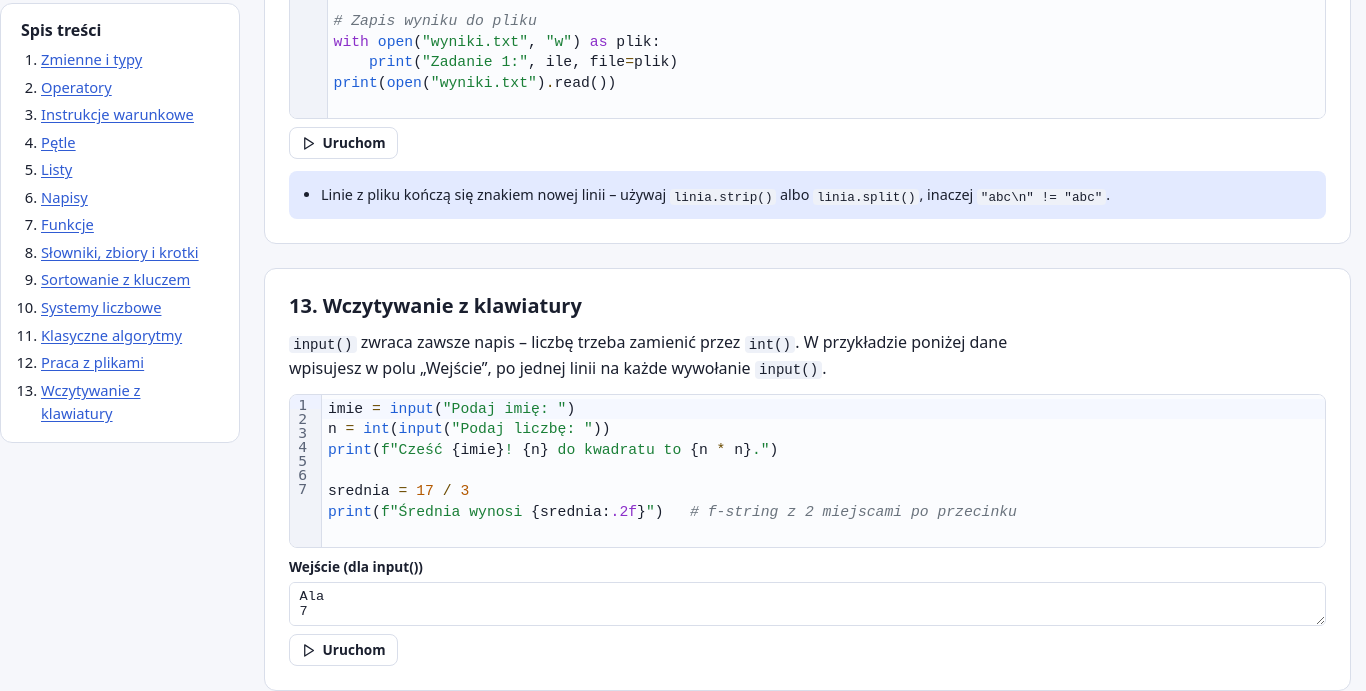
Test: PythonBasicsPage › uruchamia przykład z danymi dla input() i pokazuje wynik
(page scrolled)
Click the button "Uruchom" below "Wejście (dla input())" at (343, 650), box left=289, top=634, right=398, bottom=666
(page scrolled)
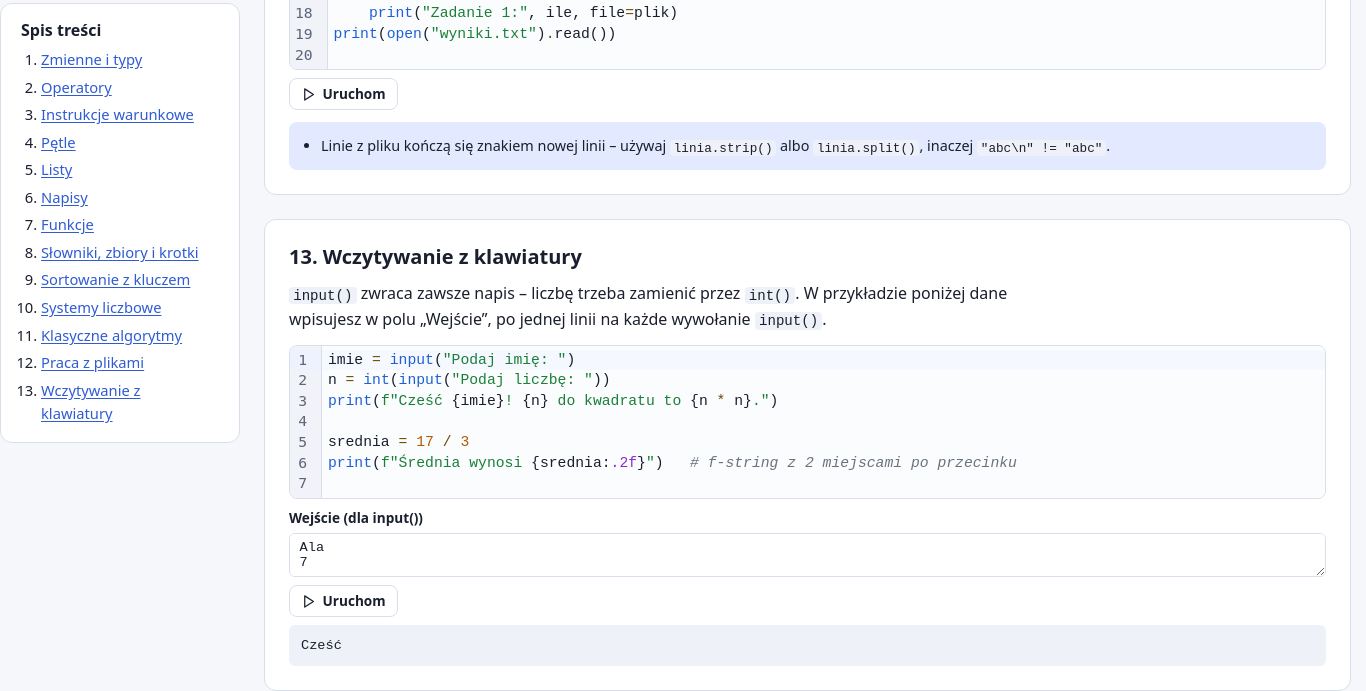
Check: the text named "Wynik przykładu" reads "Cześć", box left=301, top=638, right=342, bottom=653
